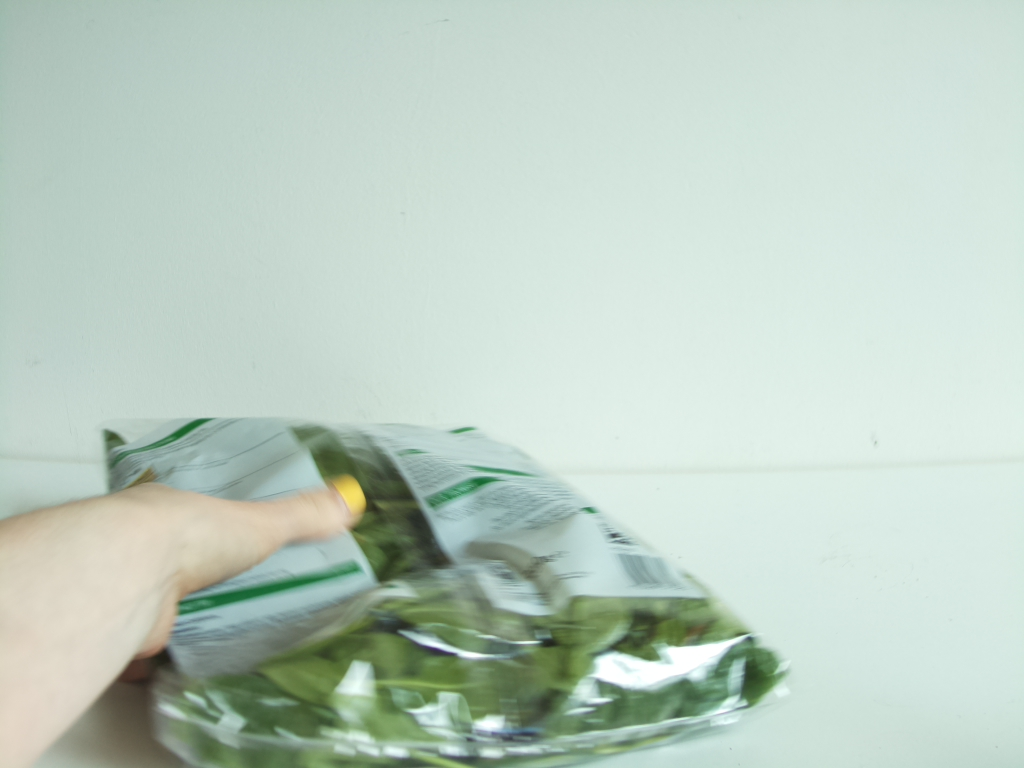salad: (105, 410, 796, 766)
